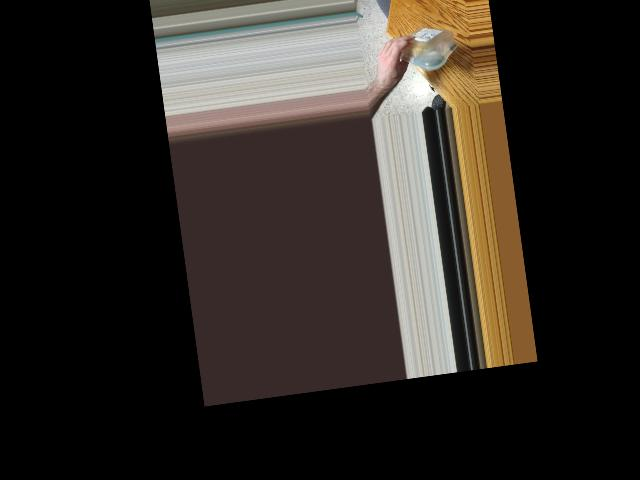cheese: (387, 25, 455, 69)
